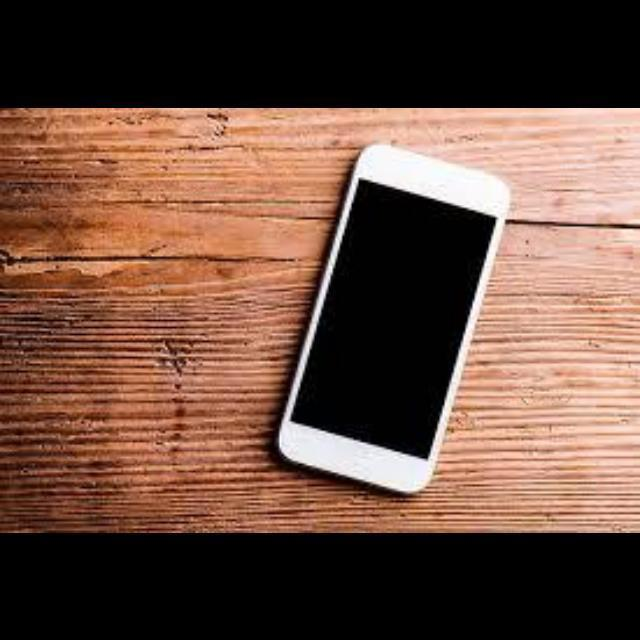PhoneUse: (277, 143, 509, 494)
